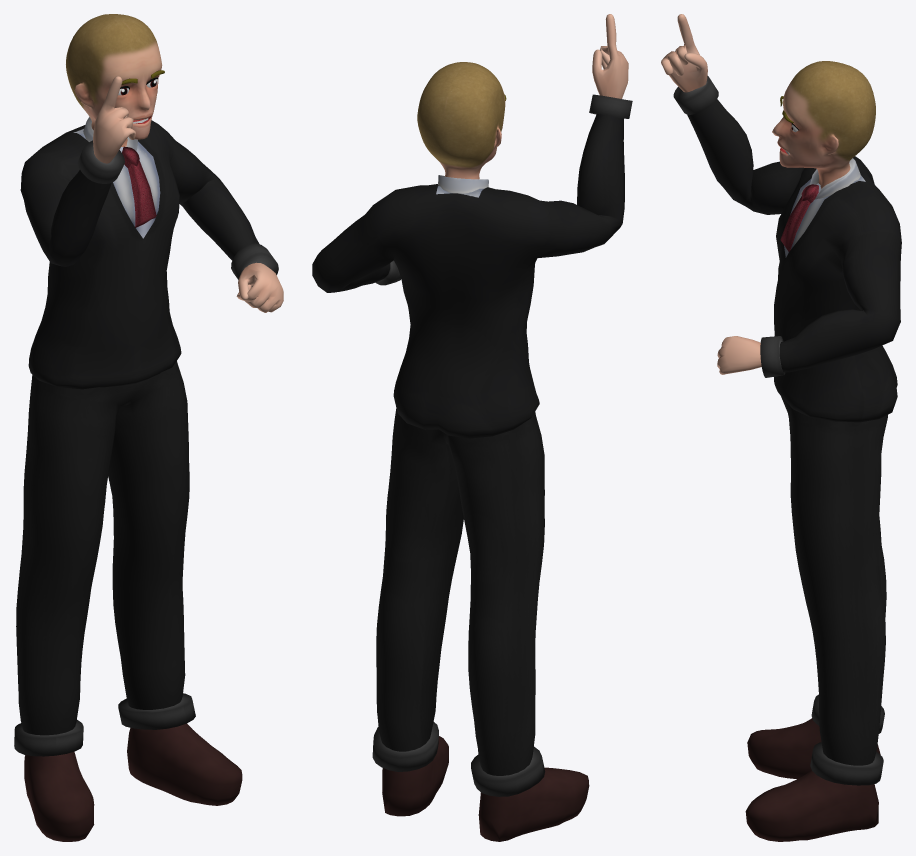
Rendered from statueA.fbx.
3 renders of one model, left to right at view 1: azimuth 30°, elevation 25°; view 2: azimuth 150°, elevation 25°; view 3: azimuth 270°, elevation 25°, orthographic. The views are drawn at different scales.
Parts seen in each view (by area): view 1: shoes, head, hands, tie1; view 2: shoes, head, hands; view 3: shoes, head, hands, tie1.
Part boxes in pixels (x1,y1,x2,y2): shoes: (14,117,278,841); head: (66,14,162,146); hands: (93,76,283,312); tie1: (122,146,156,227); shoes: (312,94,632,841); head: (417,62,505,179); hands: (592,14,628,98); shoes: (673,76,901,841); head: (772,61,875,188); hands: (661,14,761,374); tie1: (780,184,818,251).
Size of the model in its own units: 67.73 by 208 by 60.37.
